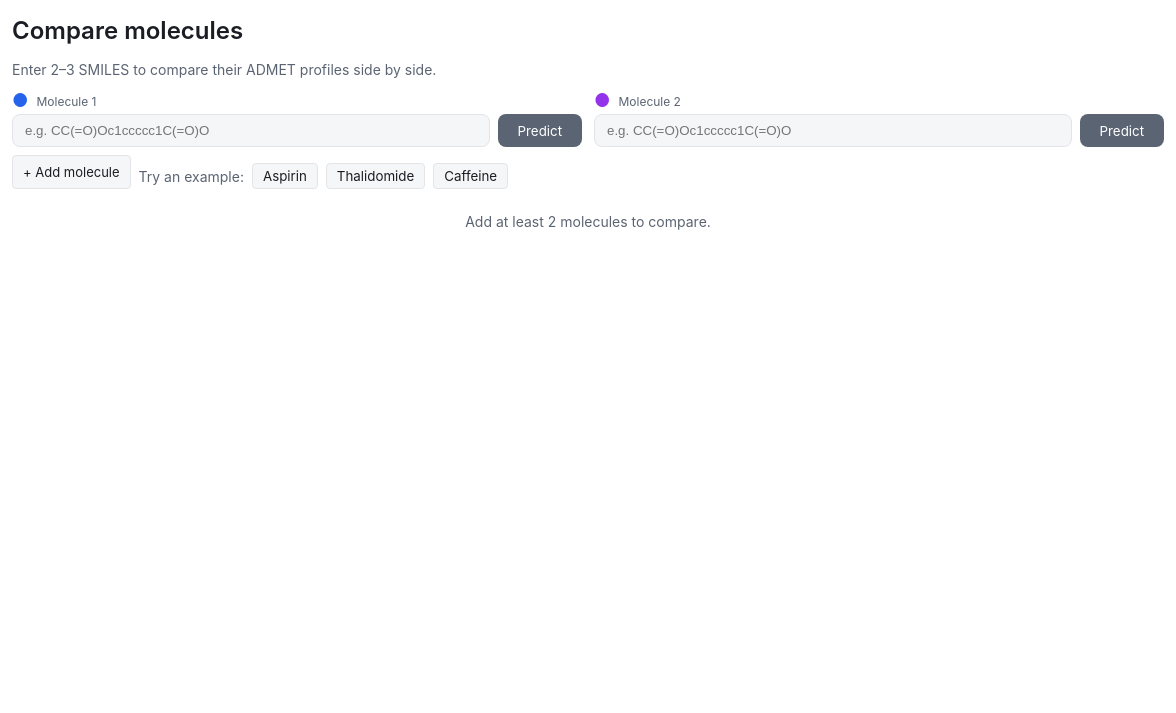
Test: ComparePage › shows a partial failure without blocking the rest of the comparison
Type "CC(=O)Oc1ccccc1C(=O)O" into the field labelled "SMILES string" below "Molecule 1".
click(251, 131); type("CC(=O)Oc1ccccc1C(=O)O")  # box [12,114,490,147]
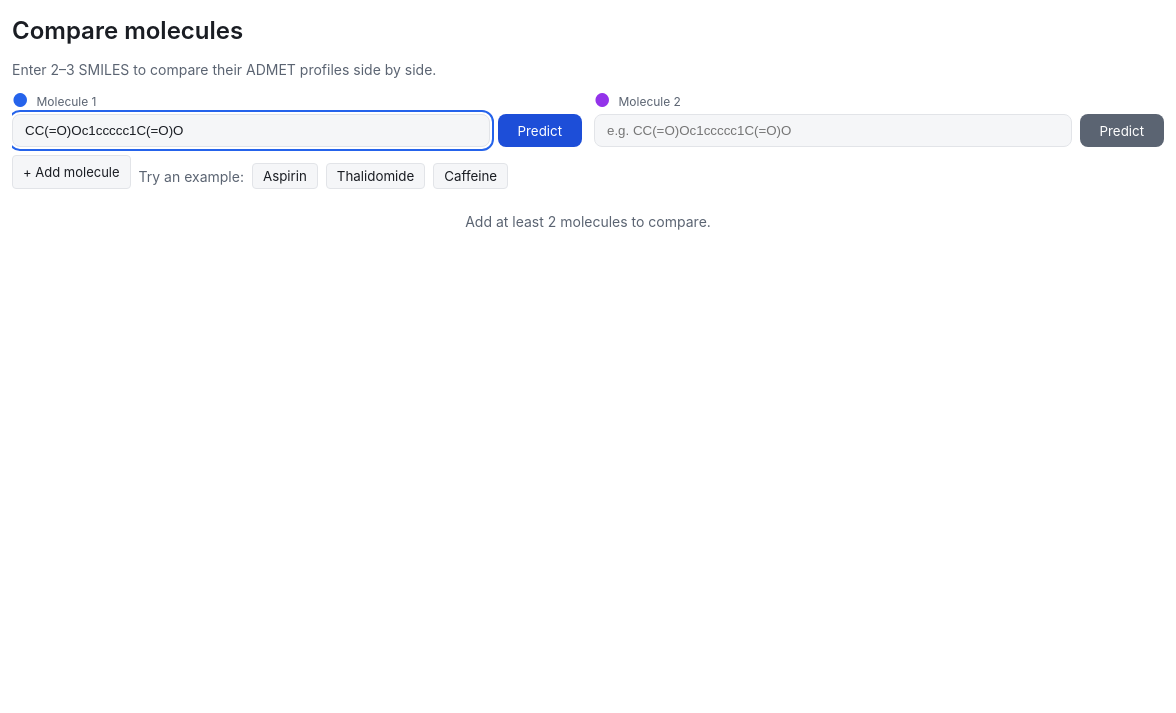
Press Enter
Type "bad-smiles" into the field labelled "SMILES string" below "Molecule 2".
click(833, 131); type("bad-smiles")  # box [594,114,1072,147]
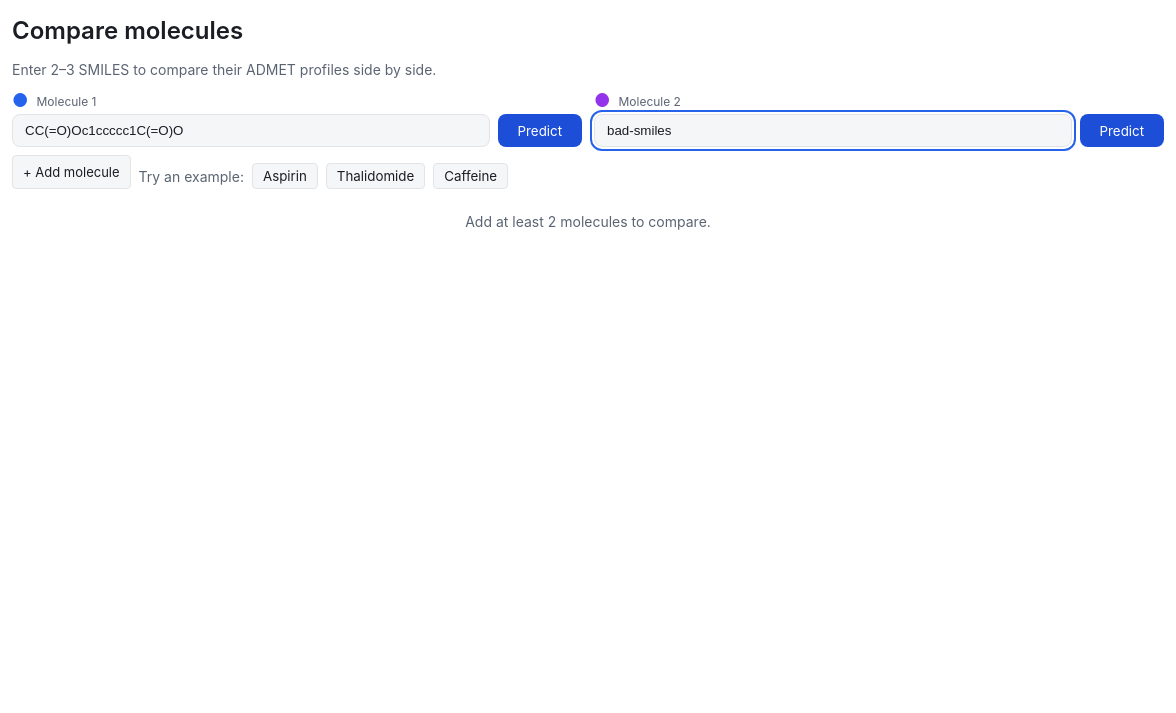
Press Enter
(page scrolled)
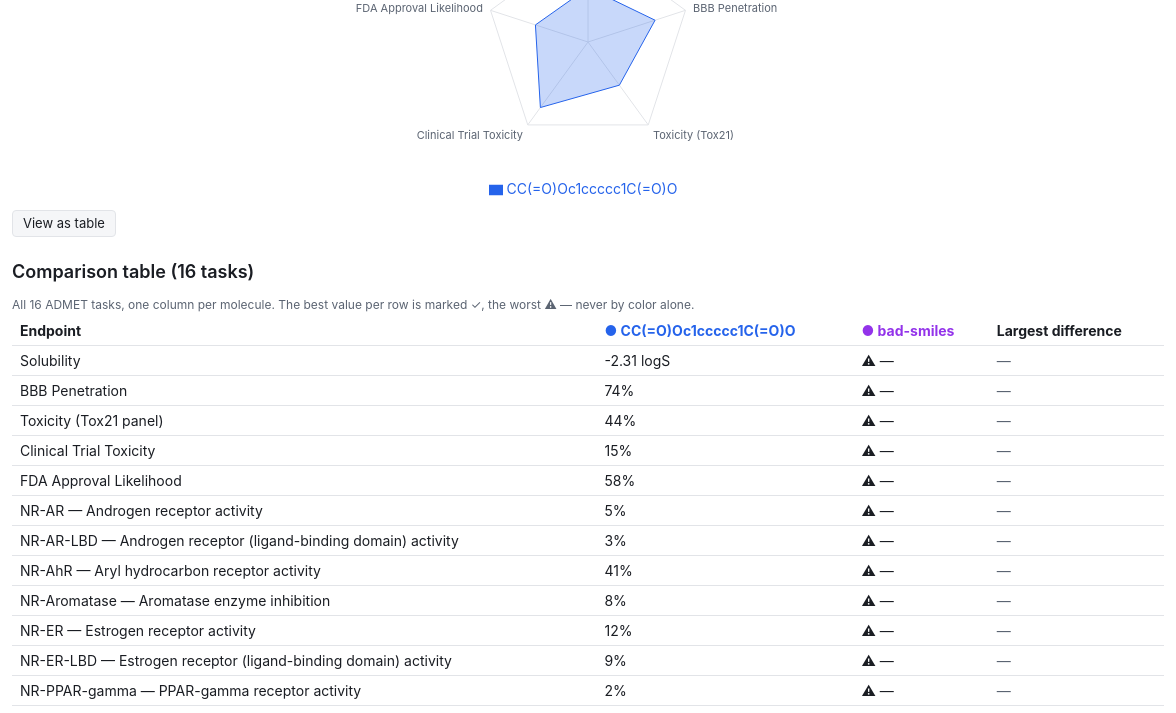
Expected: the heading "Comparison table (16 tasks)" is shown, [12,261,254,282]
